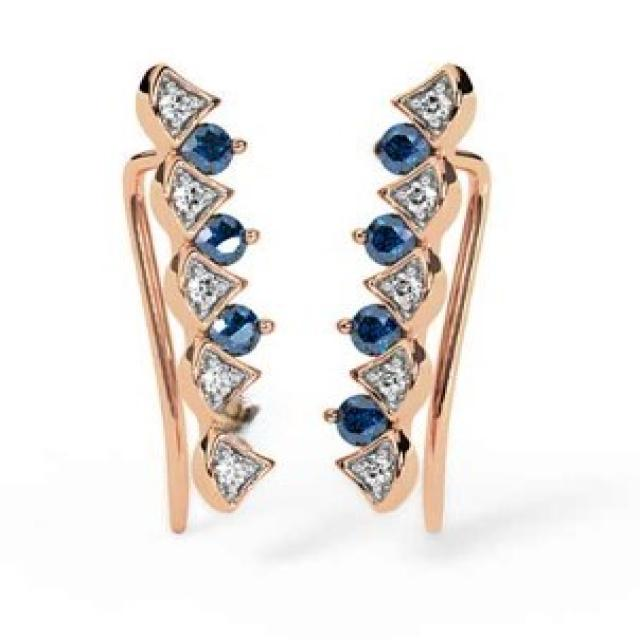missing gem: (220, 400, 272, 445), (362, 140, 377, 155)
